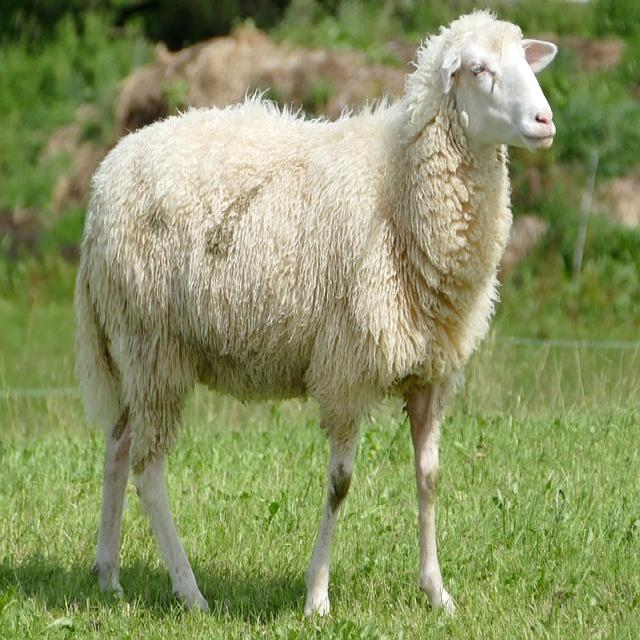goat: (78, 15, 556, 619)
